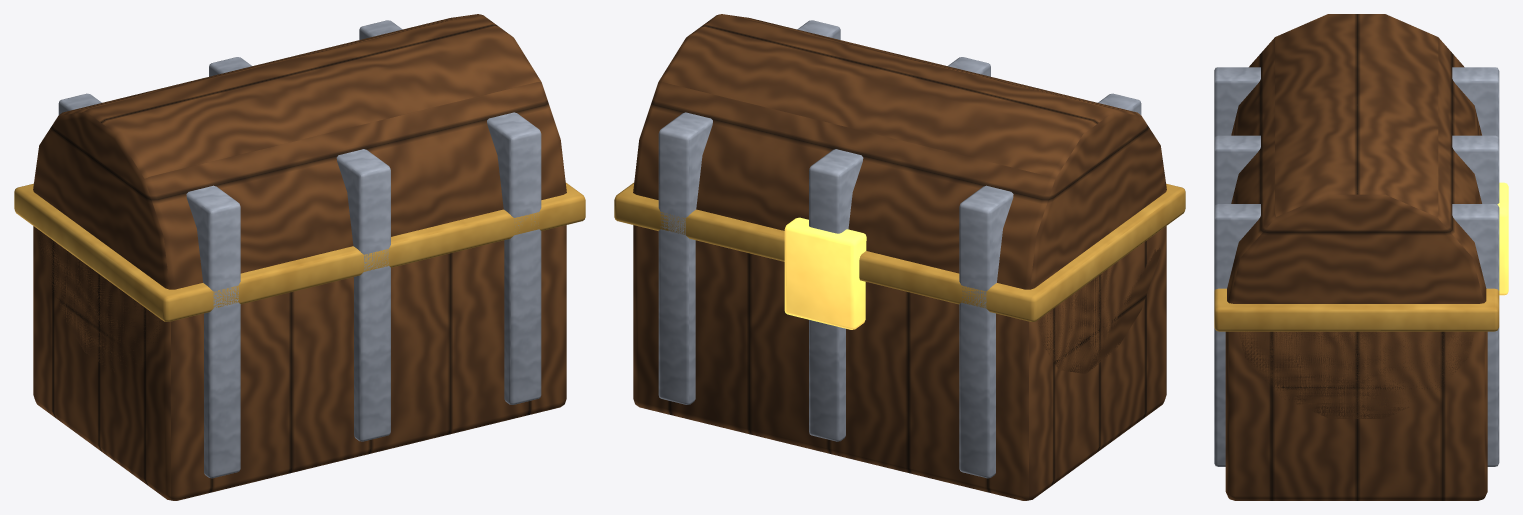
File: chest.glb
3 views of the same model, side by side, from view 1: azimuth 30°, elevation 25°; view 2: azimuth 150°, elevation 25°; view 3: azimuth 270°, elevation 25° (orthographic). The views are drawn at different scales.
Parts seen in each view (by area): view 1: ChestLid, ChestBody, RimTrim, IronStrap, IronStrap.001, IronStrap.002; view 2: ChestLid, ChestBody, RimTrim, IronStrap.002, IronStrap, IronStrap.001, LockPlate; view 3: ChestLid, ChestBody, RimTrim, IronStrap.002, IronStrap.001, IronStrap, LockPlate.
Part boxes in pixels (x1,y1,x2,y2): ChestLid: (33, 14, 566, 371); ChestBody: (33, 225, 566, 500); RimTrim: (14, 182, 585, 321); IronStrap: (58, 93, 240, 478); IronStrap.001: (209, 57, 390, 441); IronStrap.002: (359, 20, 541, 404); ChestLid: (633, 14, 1166, 373); ChestBody: (633, 225, 1166, 500); RimTrim: (614, 182, 1185, 321); IronStrap.002: (658, 20, 840, 404); IronStrap: (959, 93, 1141, 478); IronStrap.001: (809, 57, 990, 441); LockPlate: (784, 217, 866, 329); ChestLid: (1227, 14, 1486, 418); ChestBody: (1225, 331, 1487, 500); RimTrim: (1214, 288, 1499, 331); IronStrap.002: (1214, 204, 1499, 466); IronStrap.001: (1214, 135, 1499, 206); IronStrap: (1214, 67, 1499, 138); LockPlate: (1497, 182, 1508, 295).
Size of the model in its own units: 1.18 by 0.8915 by 0.765.
Materials: 4 (4 with a texture image).
